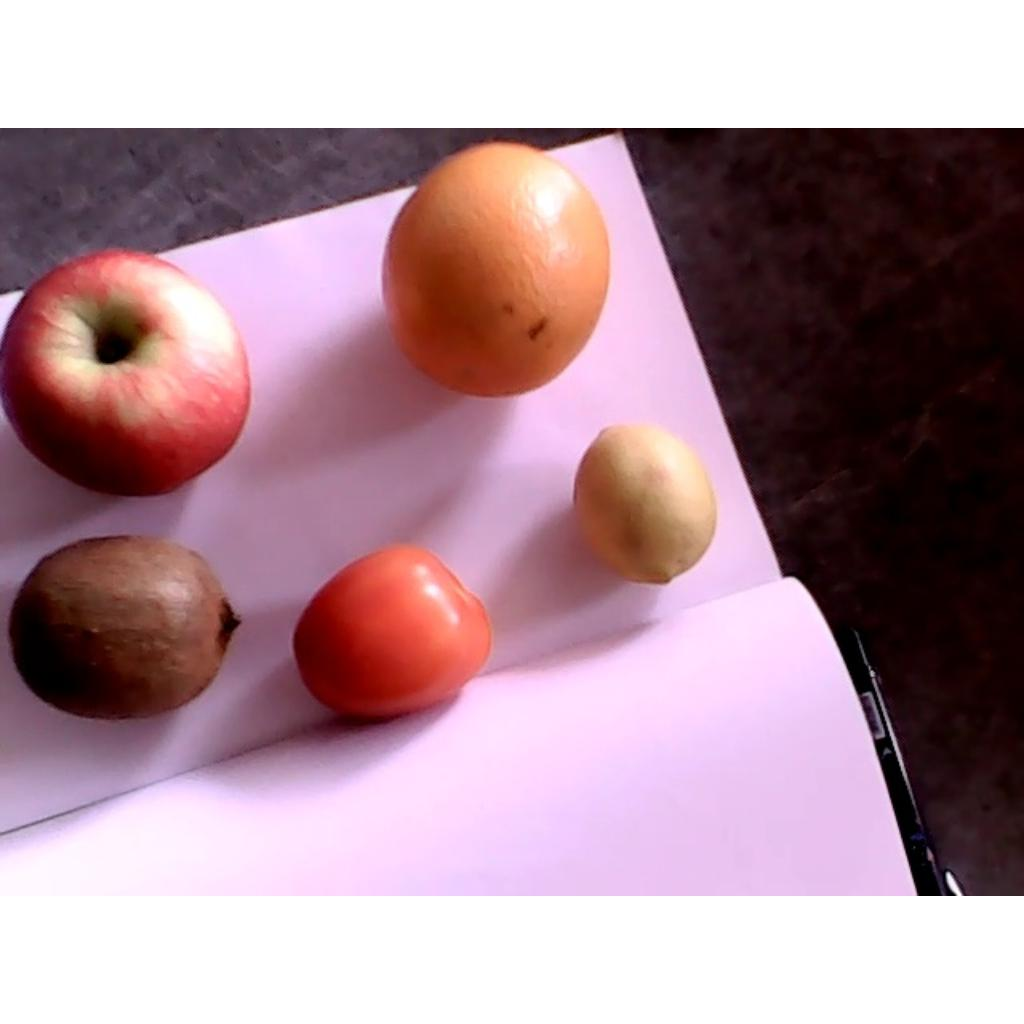apple: (1, 249, 252, 495)
kiwi: (9, 533, 244, 720)
lemon: (576, 425, 718, 584)
orange: (378, 139, 613, 397)
tomato: (290, 543, 490, 711)
